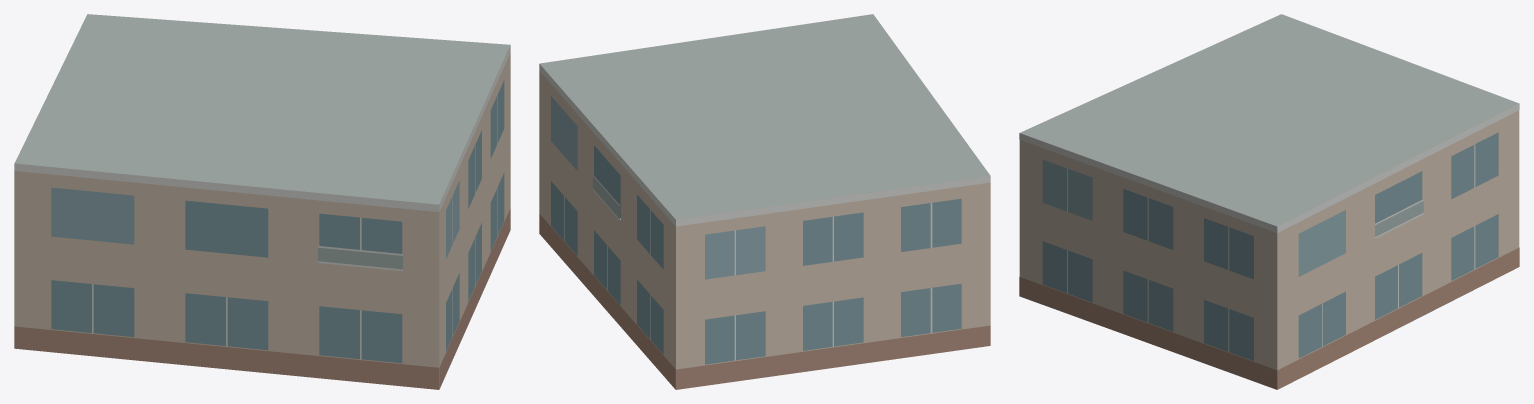
Rendered from survey-upis-32703298.glb.
3 views of the same model, side by side, from view 1: azimuth 30°, elevation 25°; view 2: azimuth 150°, elevation 25°; view 3: azimuth 270°, elevation 25° (orthographic). The views are drawn at different scales.
Parts seen in each view (by area): view 1: survey-upis-32703298.tmp; view 2: survey-upis-32703298.tmp; view 3: survey-upis-32703298.tmp.
Part boxes in pixels (box(x1,y1,x2,y2)): survey-upis-32703298.tmp: box(14, 14, 510, 389); survey-upis-32703298.tmp: box(539, 14, 990, 389); survey-upis-32703298.tmp: box(1019, 14, 1519, 389).
Size of the model in its own units: 17.03 by 6.1 by 16.93.
